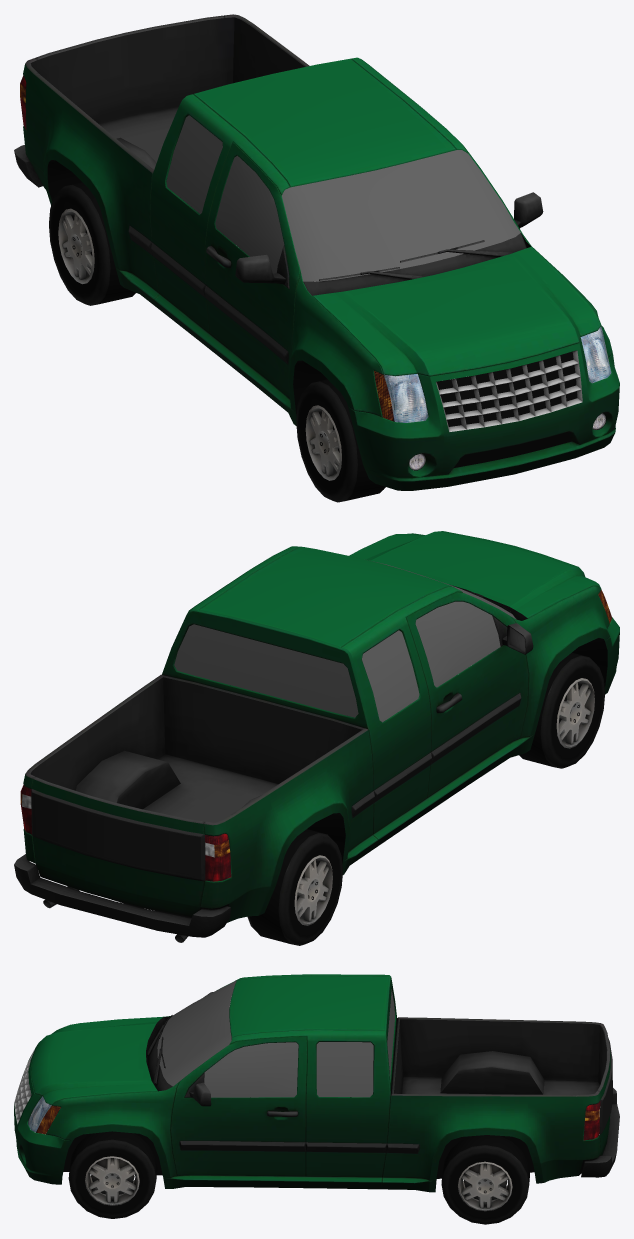
File: pack_pickup.glb
The picture shows the model from 3 angles, top to bottom: view 1: azimuth 30°, elevation 25°; view 2: azimuth 150°, elevation 25°; view 3: azimuth 270°, elevation 25°; orthographic projection. The views are drawn at different scales.
Parts seen in each view (by area): view 1: Pickup Body, Wheel_E002, Wheel_E003; view 2: Pickup Body, Wheel_E003, Wheel_E002; view 3: Pickup Body, Wheel_E001, Wheel_E.
Part boxes in pixels (x1,y1,x2,y2): Pickup Body: (14,14,619,490); Wheel_E002: (296,379,385,502); Wheel_E003: (49,182,135,305); Pickup Body: (14,531,619,942); Wheel_E003: (247,829,342,945); Wheel_E002: (519,652,604,768); Pickup Body: (14,974,619,1192); Wheel_E001: (441,1135,529,1224); Wheel_E: (68,1131,157,1218).
Bounding box in the file's own units: 2.33 × 1.91 × 5.84.
4 materials, 3 textured.
